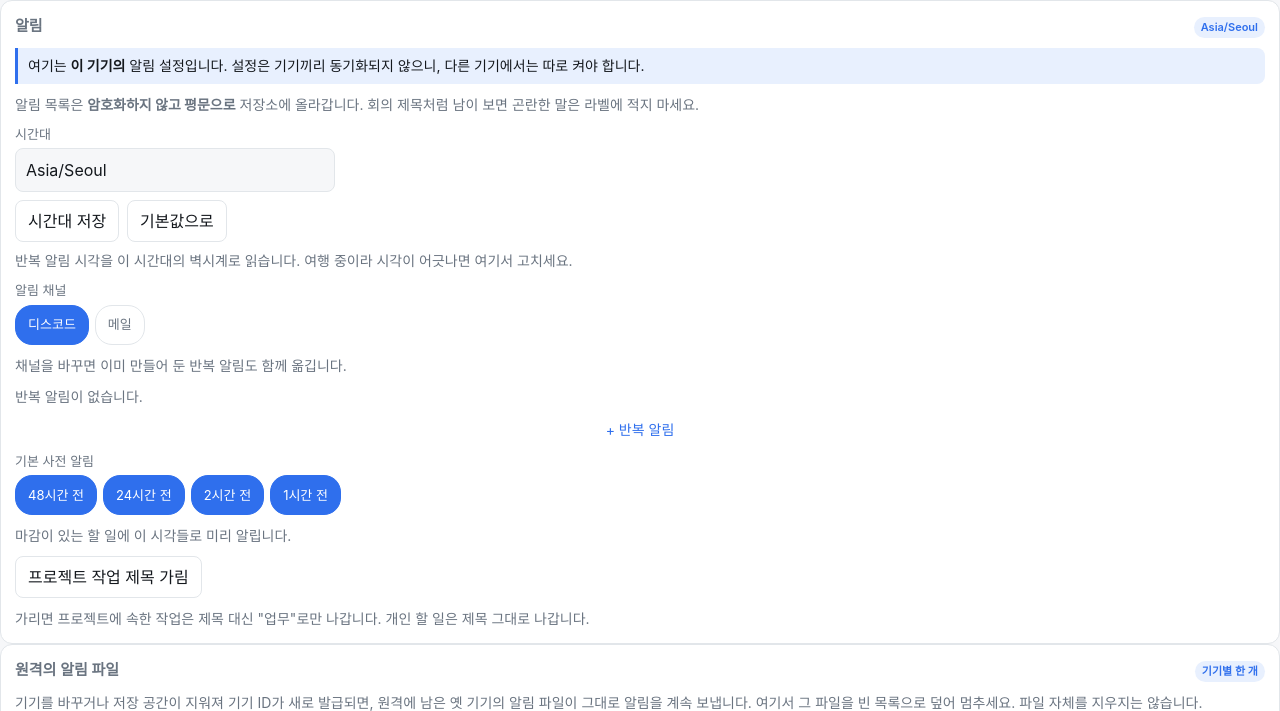
알림 설정 — 이 기기의 설정임을 알린다 › 가리기를 끄면 그 자리에서 경고가 뜬다
Click the button "프로젝트 작업 제목 가림". click: (108, 577)
box: 15,556 -> 202,598
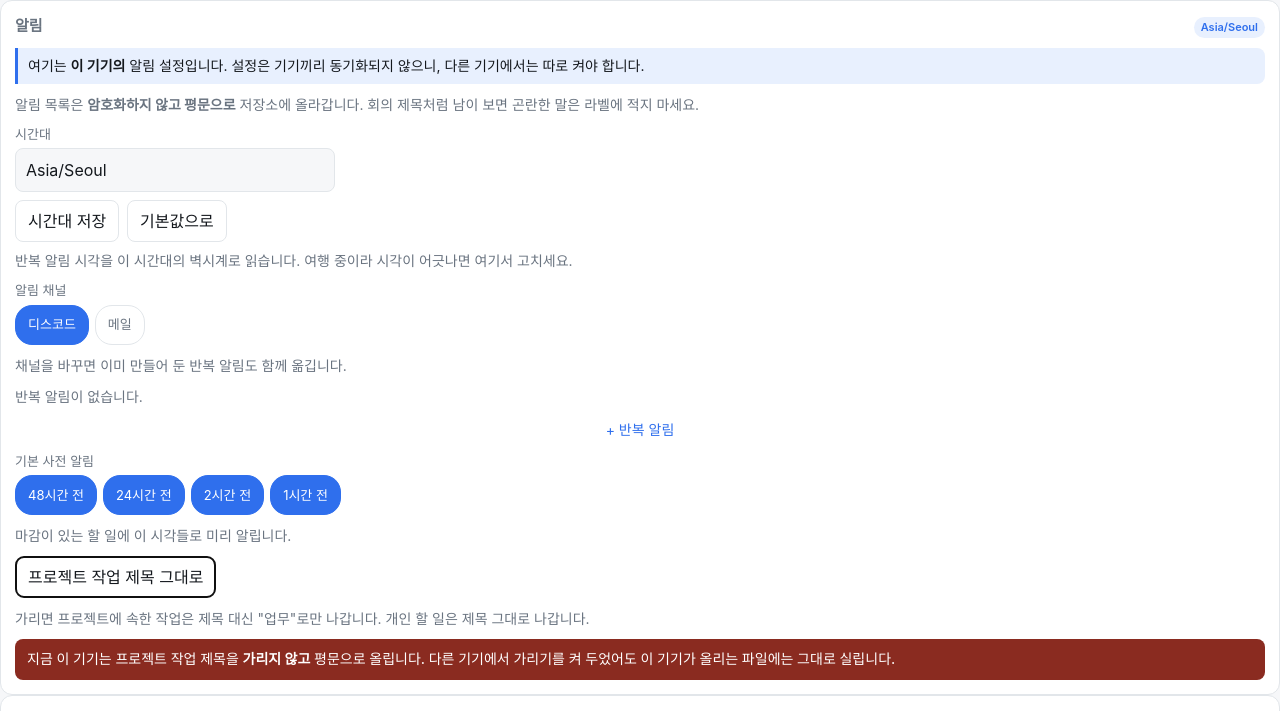
expect the message is shown: met, box 15,639 -> 1265,680
